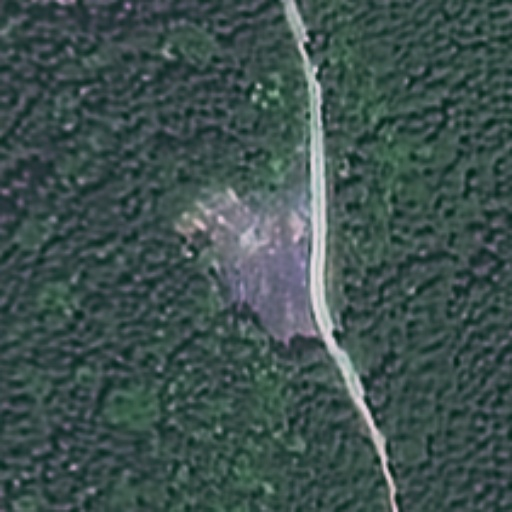landslide: (180, 191, 319, 340)
